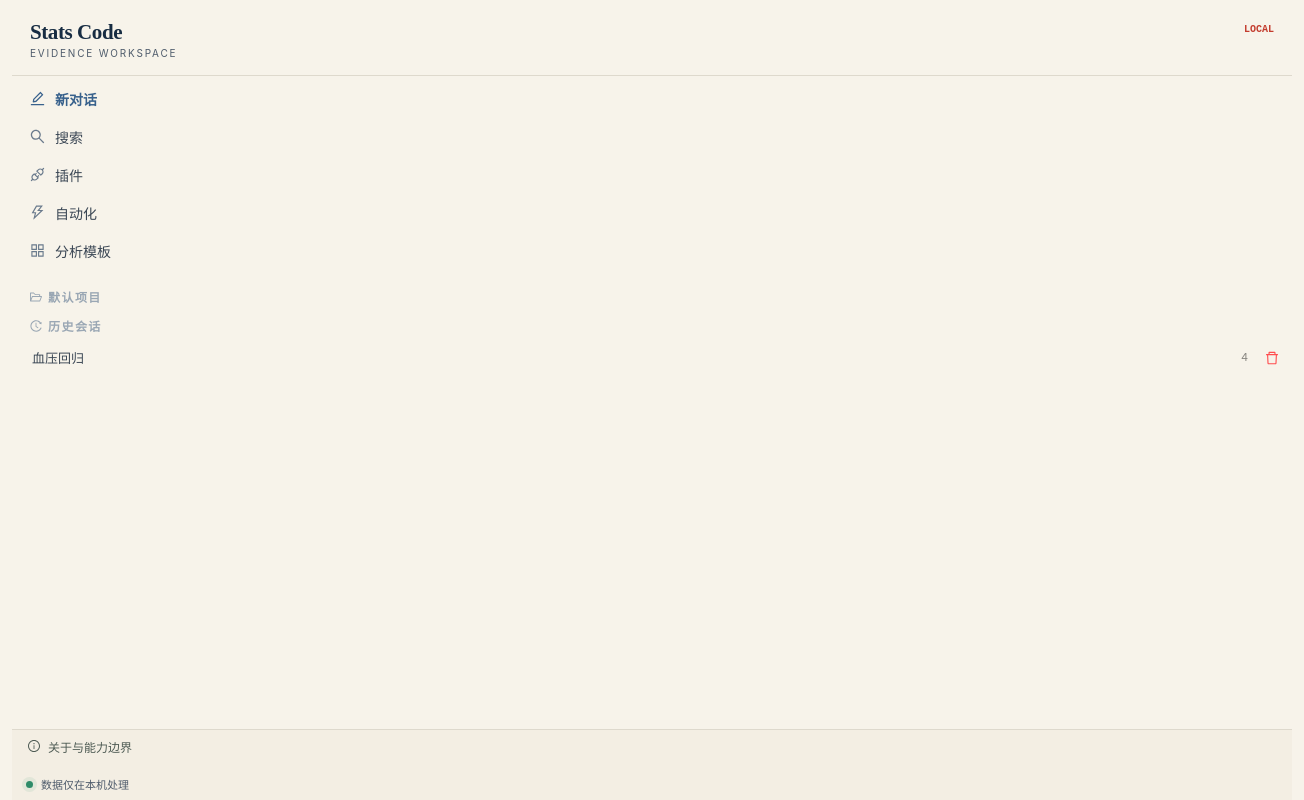
Test case: SimpleSidebar (Requirements 2.1, 2.2, 9.6) › lets the user dismiss a deletion error
This screenshot has width=1304, height=800.
Click the button named "删除会话: 血压回归". click: (1272, 358)
box: x1=1260 y1=346 x2=1284 y2=370
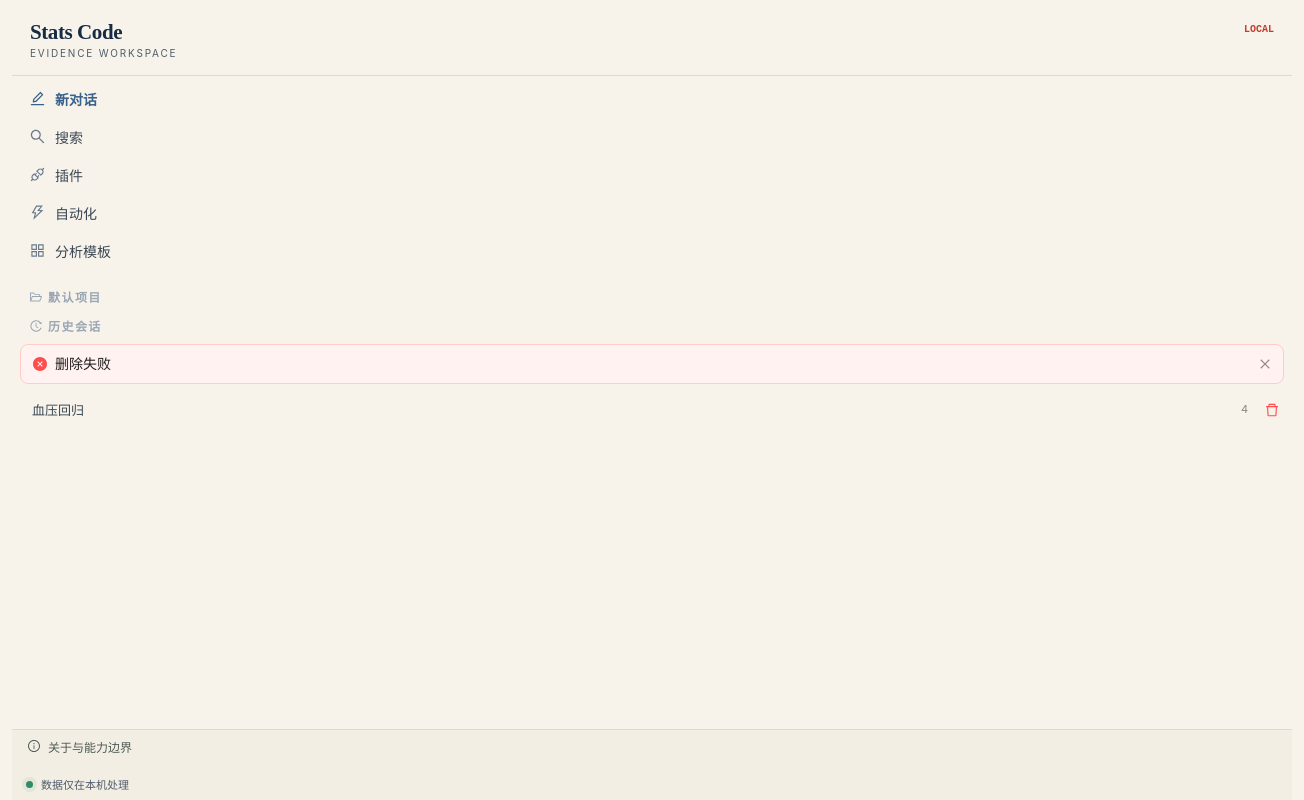
Expected: the message "删除失败" is shown, x1=20 y1=344 x2=1284 y2=384
Click the button named "close". click: (1265, 364)
box: x1=1259 y1=358 x2=1271 y2=370
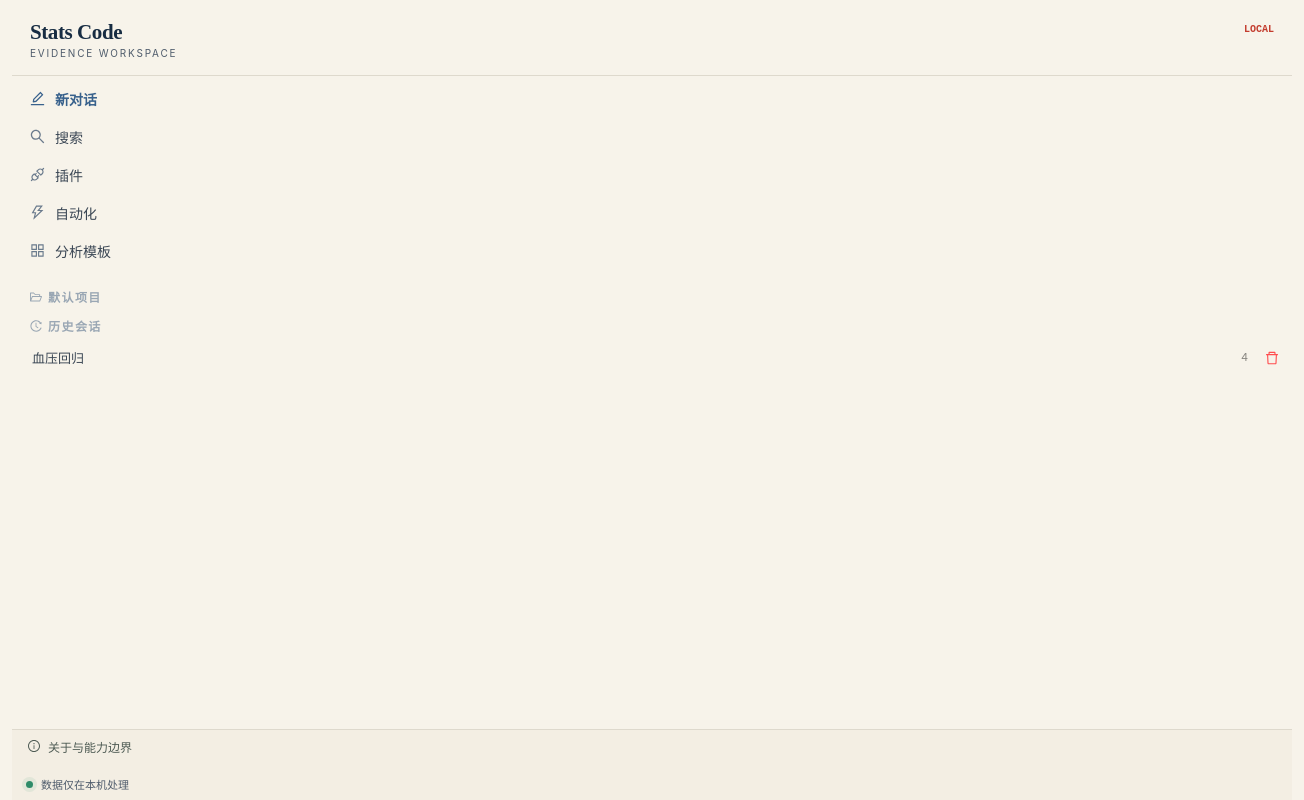
Expected: the message "删除失败" is gone
